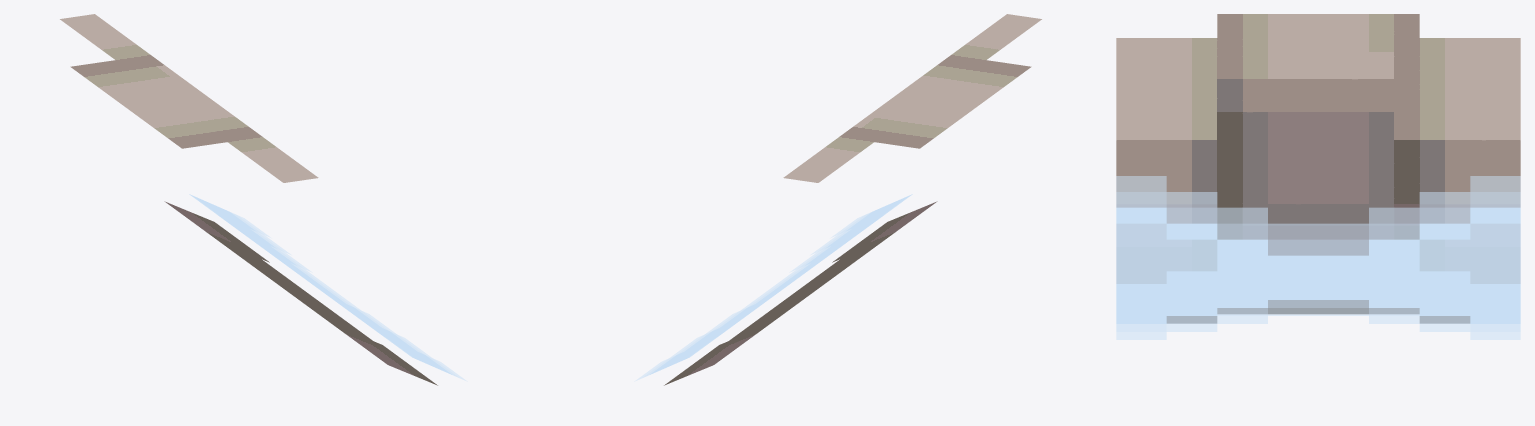
3 renders of one model, left to right at view 1: azimuth 30°, elevation 25°; view 2: azimuth 150°, elevation 25°; view 3: azimuth 270°, elevation 25°, orthographic. The views are drawn at different scales.
Bounding box in the file's own units: 0.7695 × 0.7266 × 1.
Materials: 2 (2 with a texture image).
